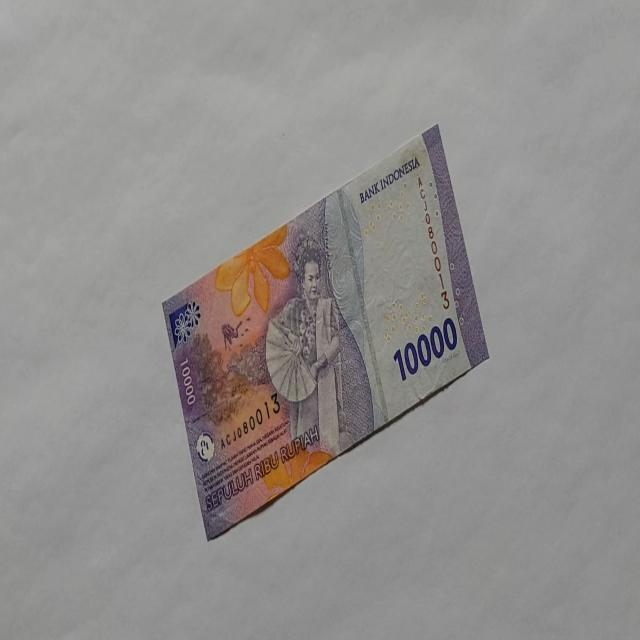sepuluh ribu rupiah: (160, 121, 490, 542), (392, 314, 458, 382), (358, 153, 420, 204)
